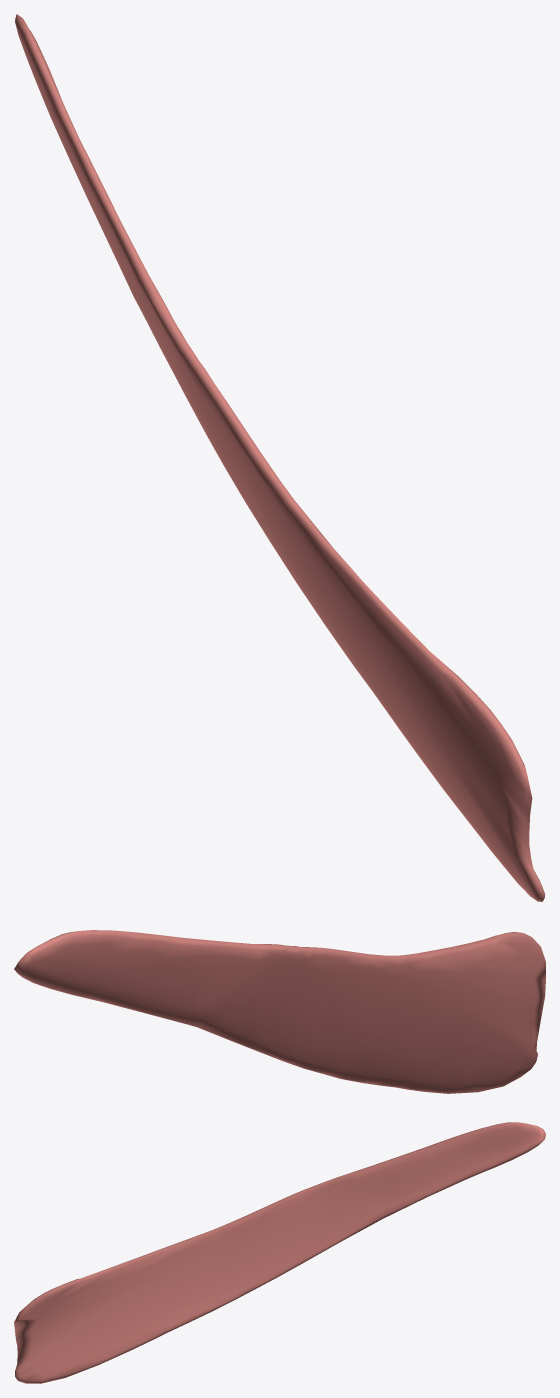
3 views of the same model, one above another, from view 1: azimuth 30°, elevation 25°; view 2: azimuth 150°, elevation 25°; view 3: azimuth 270°, elevation 25° (orthographic). The views are drawn at different scales.
Parts seen in each view (by area): view 1: ZA_60fe90f4f321cbcc; view 2: ZA_60fe90f4f321cbcc; view 3: ZA_60fe90f4f321cbcc.
Boxes of the visible parts, <box> form: ZA_60fe90f4f321cbcc: <box>15,14,545,901</box>; ZA_60fe90f4f321cbcc: <box>14,930,545,1093</box>; ZA_60fe90f4f321cbcc: <box>14,1122,545,1383</box>.
Size of the model in its own units: 0.00367 by 0.0225 by 0.0423.
